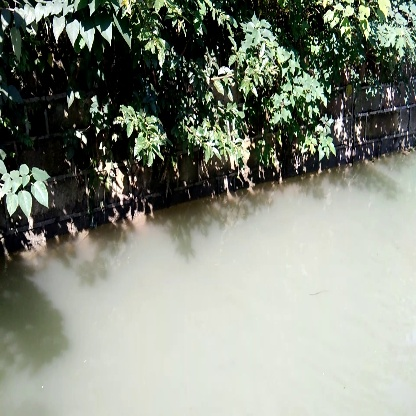grass: (225, 23, 331, 127)
